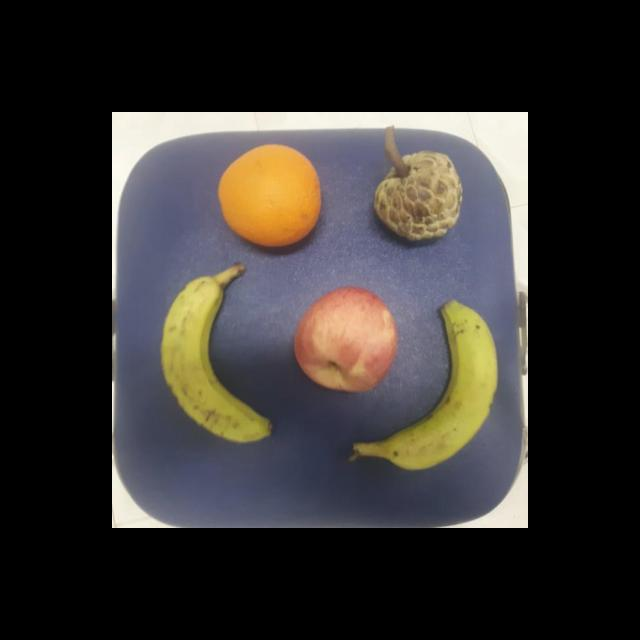Sakya fruit: (364, 148, 466, 248)
apple: (290, 282, 401, 399)
banana: (349, 297, 501, 473), (158, 264, 273, 446)
orange: (216, 143, 323, 250)
